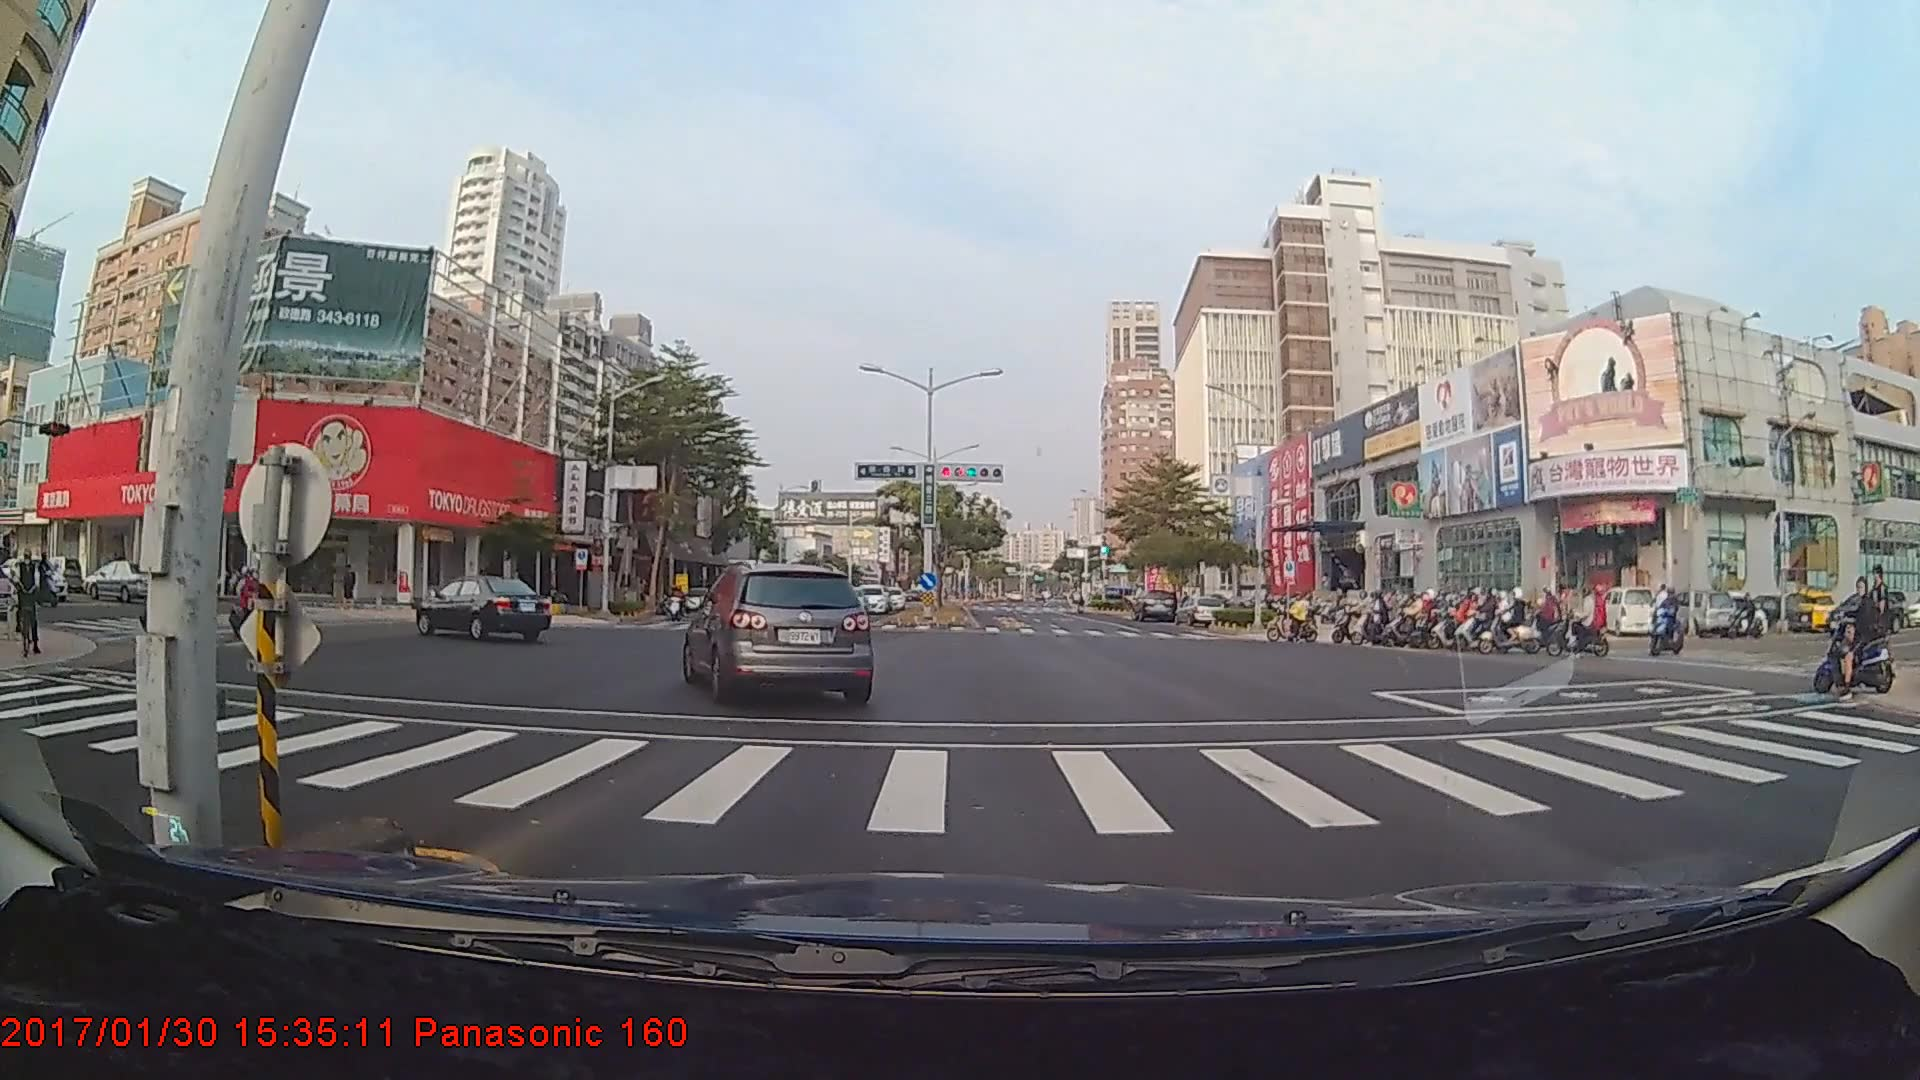pedestrian: (1865, 565, 1896, 681)
rider: (1813, 565, 1909, 702), (1543, 578, 1614, 664), (138, 558, 205, 648), (6, 555, 50, 662), (225, 570, 288, 642), (1484, 587, 1545, 655), (1320, 592, 1383, 646), (1455, 590, 1513, 648), (1364, 592, 1417, 648), (1263, 590, 1320, 642), (1649, 590, 1690, 659), (661, 584, 688, 621)
vehicle: (685, 558, 876, 704), (414, 575, 552, 644), (84, 559, 165, 602), (1130, 588, 1177, 623), (853, 581, 888, 613)
